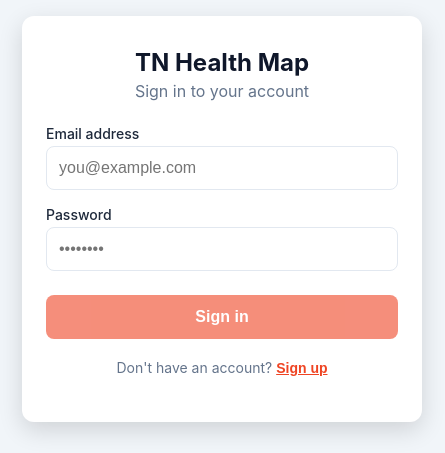
Scenario: LoginForm › enables the submit button once email and password are both filled
Type "user@example.com" into the field labelled "Email address".
click(222, 168); type("user@example.com")  # box [46,146,398,190]
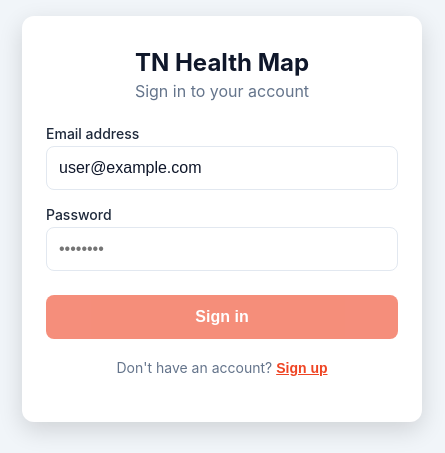
Type "secret123" into the password field labelled "Password".
click(222, 249); type("secret123")  # box [46,227,398,271]
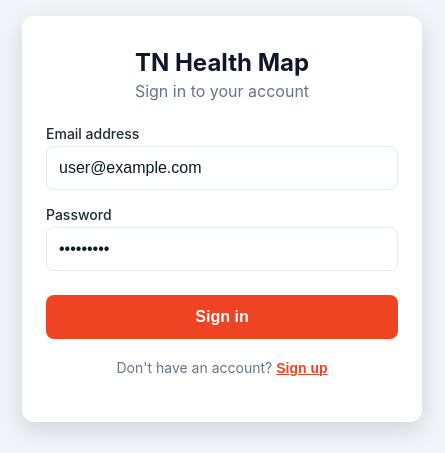
Expected: the button "Sign in" is enabled, [46,295,398,339]
